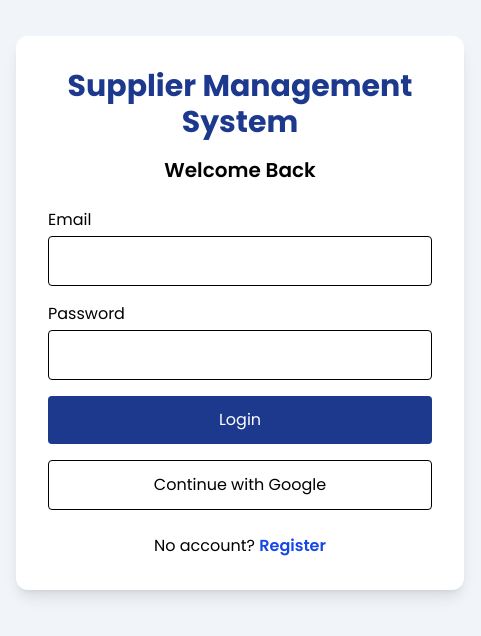
Scenario: Login Page › shows an error when Google login fails
This screenshot has width=481, height=636.
Click the button "Continue with Google" at (240, 485), box [48, 460, 432, 510]
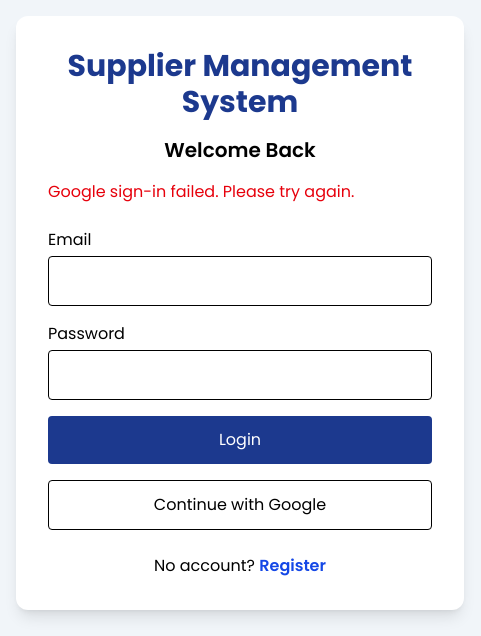
Expected: the message reads "Google sign-in failed. Please try again.", [48, 180, 354, 203]
